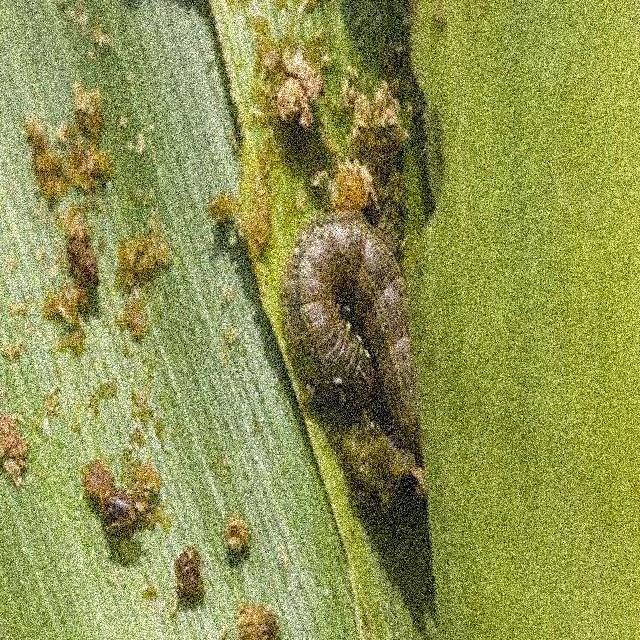gusano_cogollero: (278, 205, 420, 449)
